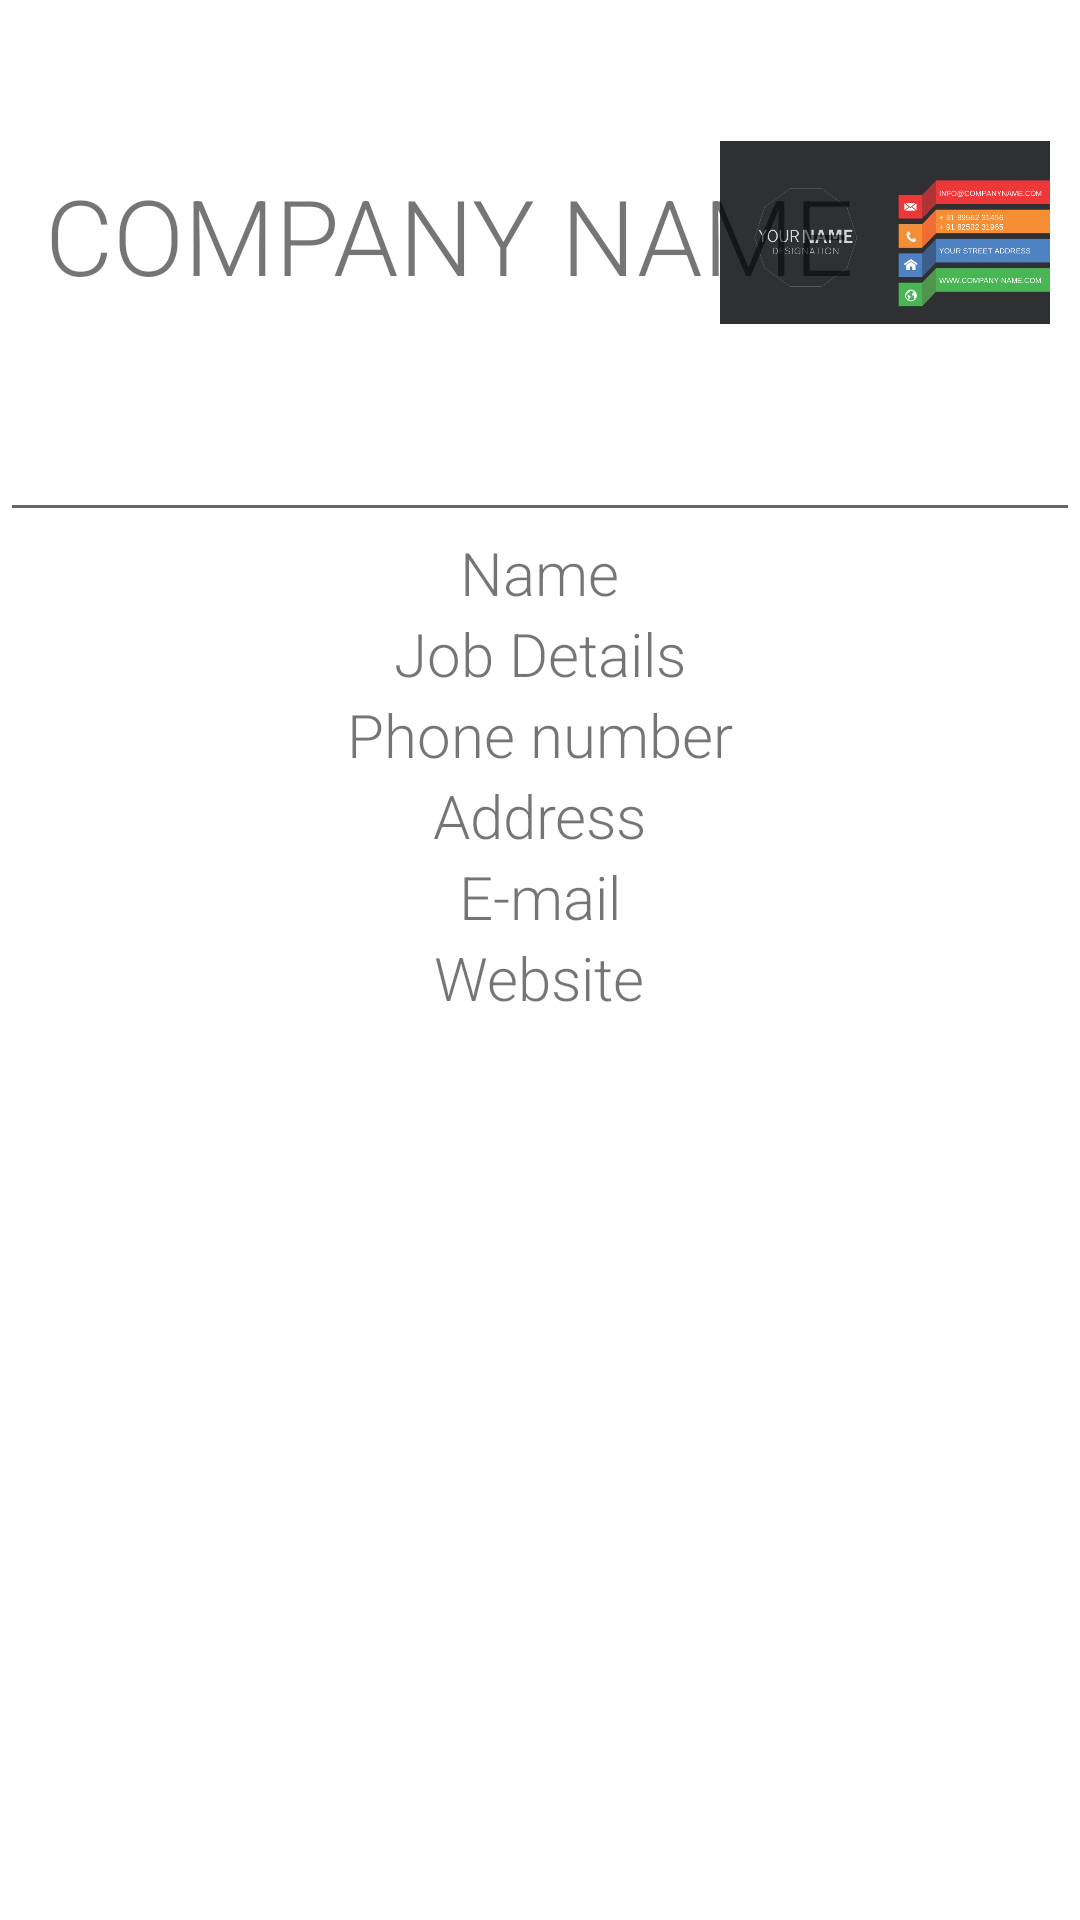

Screen size 1080x1920. Icon name, then its box in pixels as {"left": x1, "top": y1, "right": x2, "bottom": y2}:
visiting: {"left": 720, "top": 141, "right": 1050, "bottom": 324}
